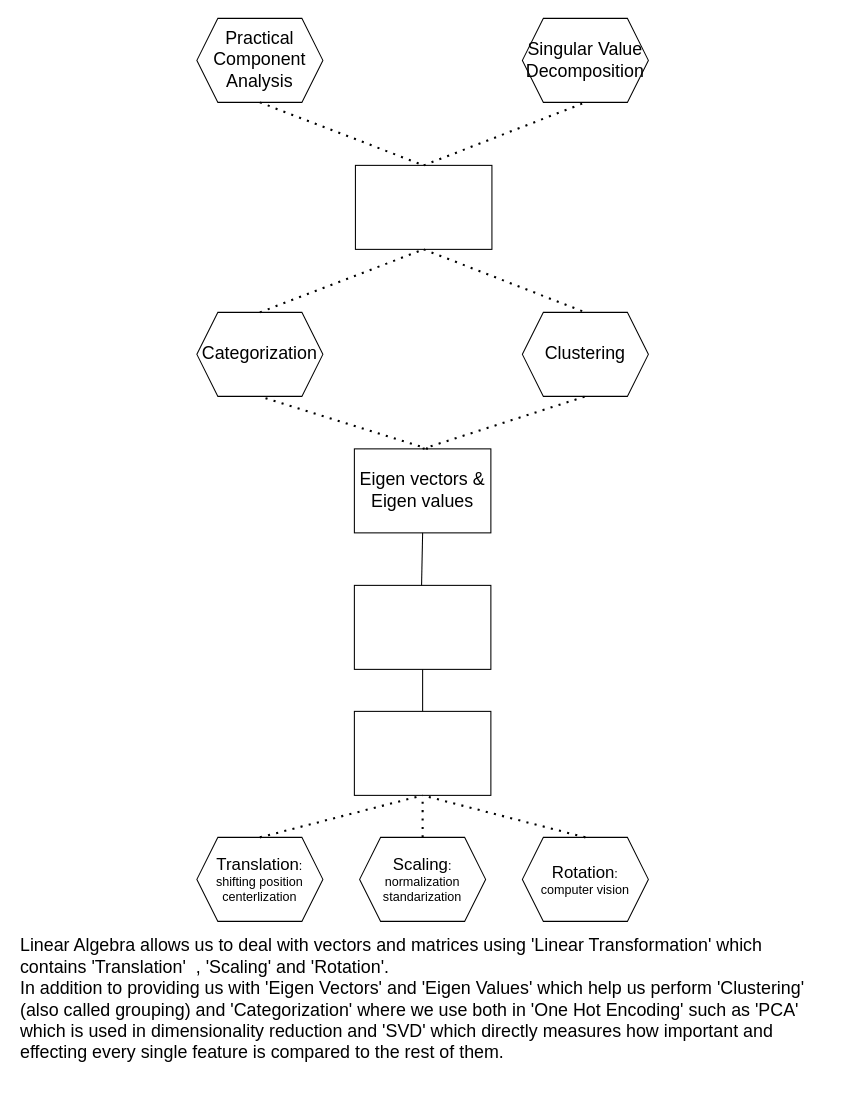
Some shapes in this 844 by 1097 pixel diagram are drawn without their labels. The centre of each missing label's shape, as x and y in pixels:
Linear Algebra: the point at 422,626
Linear Transformation: the point at 422,752
One Hot Encoding: the point at 423,206
